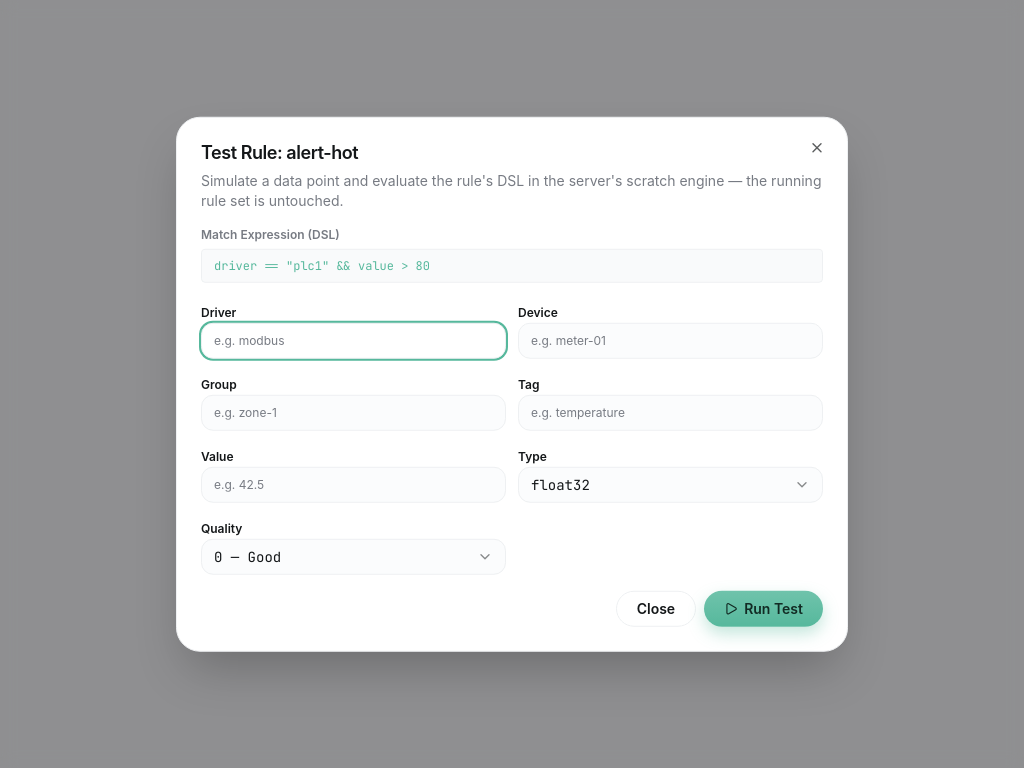
Test: RuleTestDialog — server scratch engine › shows compile errors verbatim and hides the verdict once inputs change (stale guard)
Click the button "Run Test" at (764, 608), box [704, 590, 823, 626]
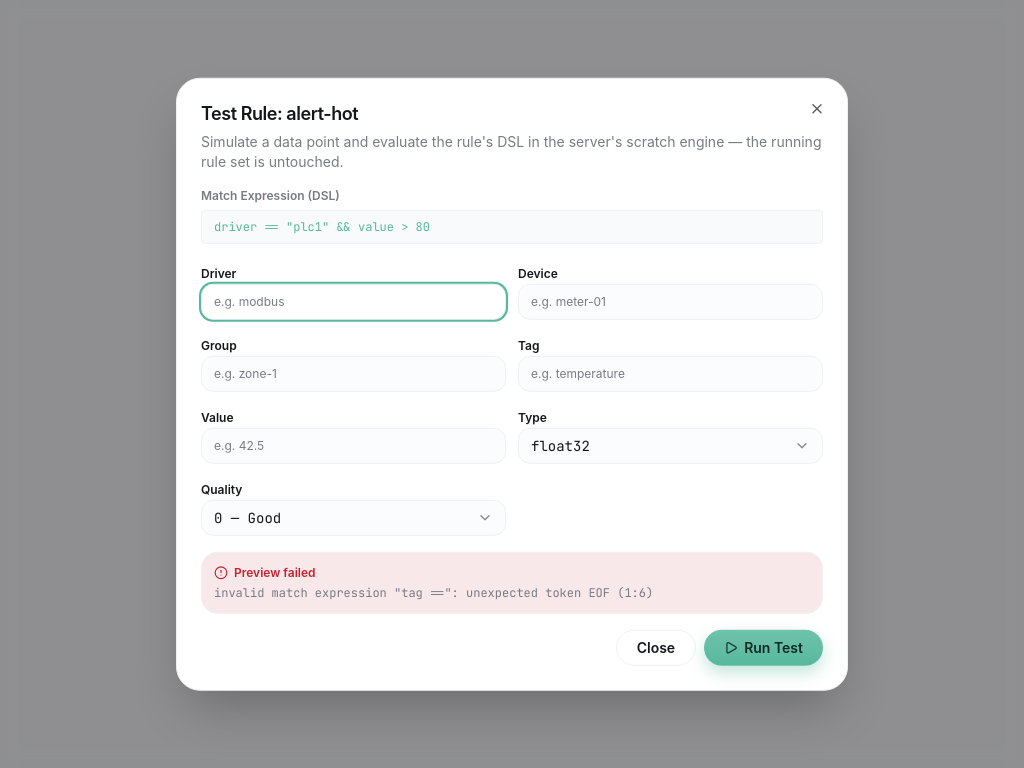
Expected: the text "invalid match expression \"tag ==\": unexpected token EOF" is shown, [214, 584, 653, 600]
// Editing the sample point after a run hides the previous verdict.
Type "90" into the field with placeholder "e.g. 42.5" at (354, 445), box [201, 427, 506, 463]
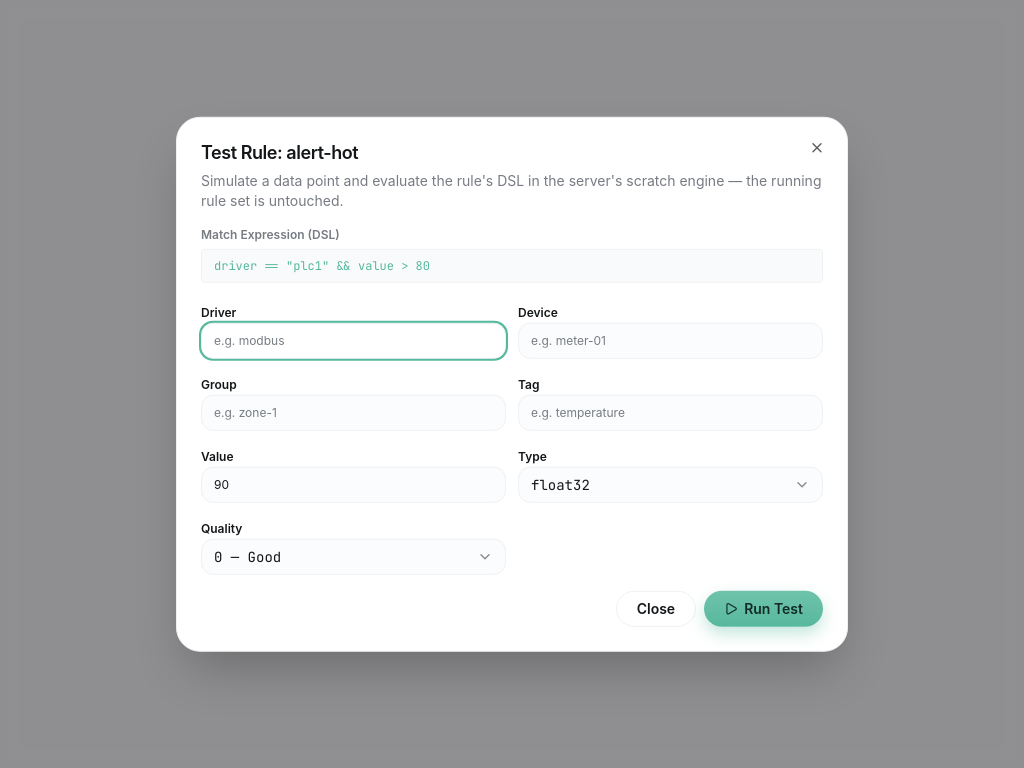
Expected: the text "unexpected token EOF" is gone
